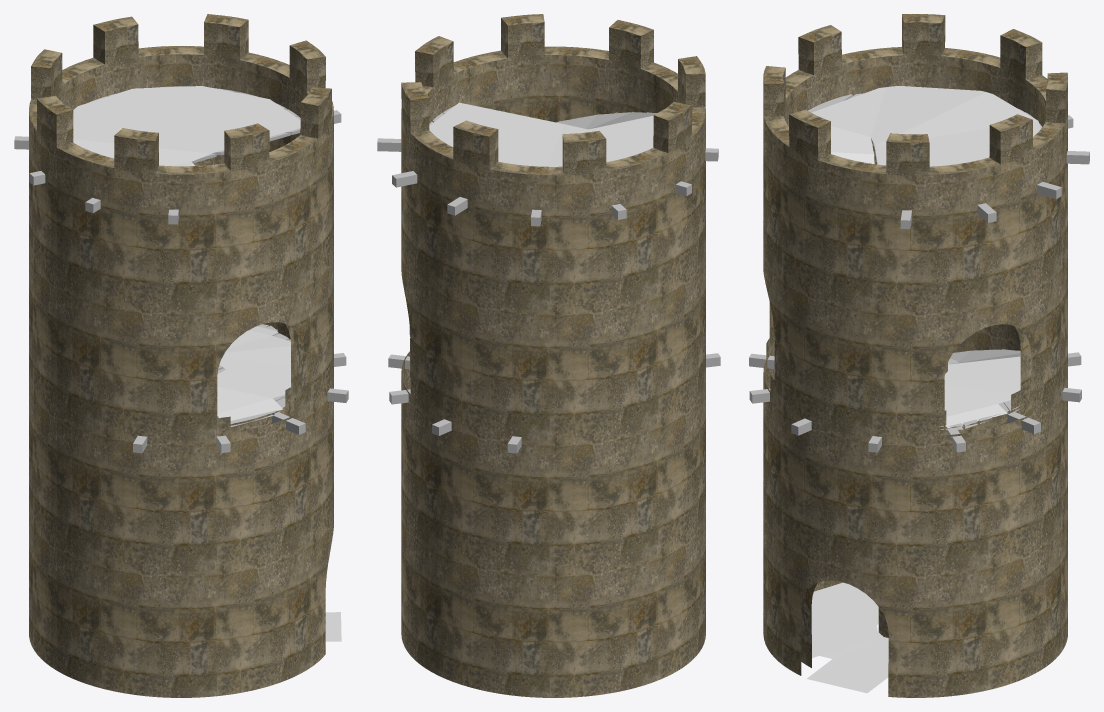
The model's file is Tower_1.fbx.
The picture shows the model from 3 angles, left to right: view 1: azimuth 30°, elevation 25°; view 2: azimuth 150°, elevation 25°; view 3: azimuth 270°, elevation 25°; orthographic projection.
Parts seen in each view (by area): view 1: CastleTower.006, Plane.243; view 2: CastleTower.006, Plane.243; view 3: CastleTower.006, Plane.243.
Boxes of the visible parts, x1,y1,x2,y2 form: CastleTower.006: (14,14,348,697); Plane.243: (73,86,341,641); CastleTower.006: (377,14,720,697); Plane.243: (429,102,656,166); CastleTower.006: (749,14,1089,697); Plane.243: (807,86,1040,693).
Size of the model in its own units: 631 by 1133 by 631.
